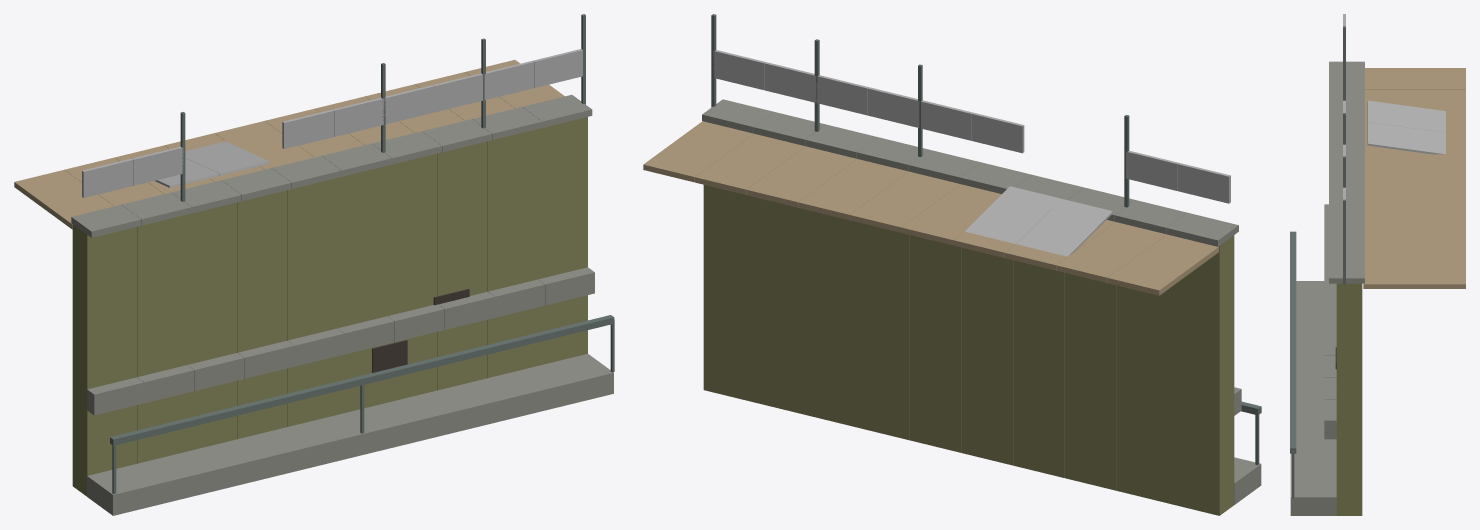
Rendered from SM_MuroRampa_v3_Pasillo_e1_Danado_LOD1.fbx.
The picture shows the model from 3 angles, left to right: view 1: azimuth 30°, elevation 25°; view 2: azimuth 150°, elevation 25°; view 3: azimuth 270°, elevation 25°; orthographic projection. The views are drawn at different scales.
Parts seen in each view (by area): view 1: SM_muro_rampa_v13_LOD1; view 2: SM_muro_rampa_v13_LOD1; view 3: SM_muro_rampa_v13_LOD1.
Part boxes in pixels (x1=…): SM_muro_rampa_v13_LOD1: x1=14, y1=14, x2=614, y2=515; SM_muro_rampa_v13_LOD1: x1=643, y1=14, x2=1261, y2=515; SM_muro_rampa_v13_LOD1: x1=1290, y1=14, x2=1465, y2=515.
Bounding box in the file's own units: 10.03 × 6.8 × 3.43.
